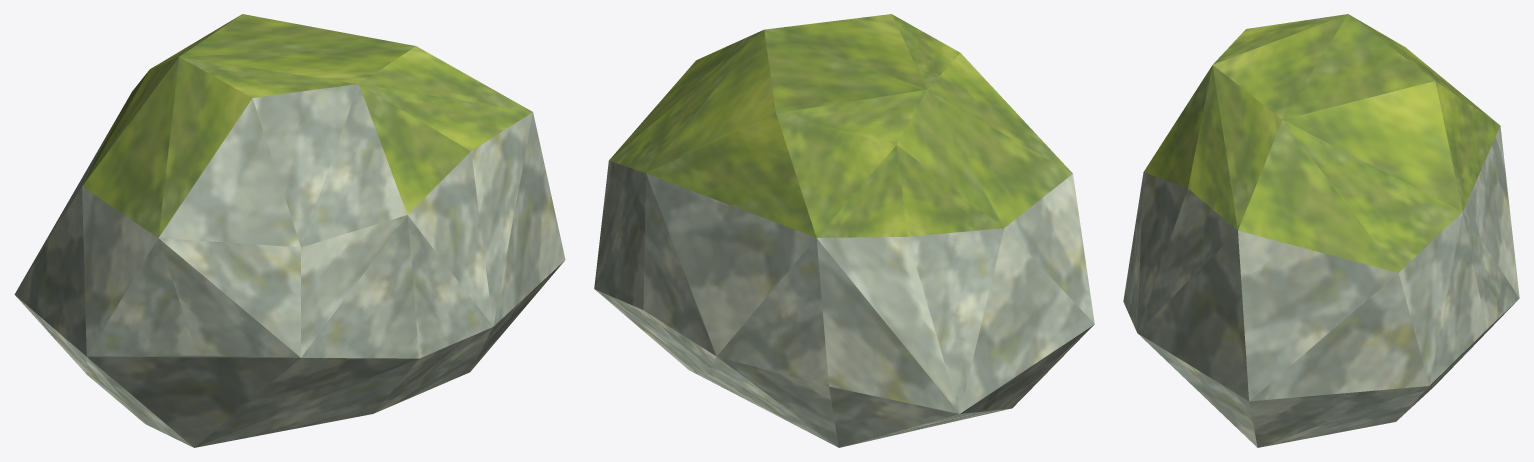
The model's file is Rock_River_B.glb.
3 renders of one model, left to right at view 1: azimuth 30°, elevation 25°; view 2: azimuth 150°, elevation 25°; view 3: azimuth 270°, elevation 25°, orthographic. The views are drawn at different scales.
Visible parts, largest first — view 1: Rock_River_B; view 2: Rock_River_B; view 3: Rock_River_B.
Part boxes in pixels (x1=…): Rock_River_B: x1=14, y1=14, x2=565, y2=447; Rock_River_B: x1=594, y1=14, x2=1094, y2=447; Rock_River_B: x1=1123, y1=14, x2=1519, y2=447.
Bounding box in the file's own units: 2.15 × 1.5 × 1.67.
Materials: 1 (1 with a texture image).
